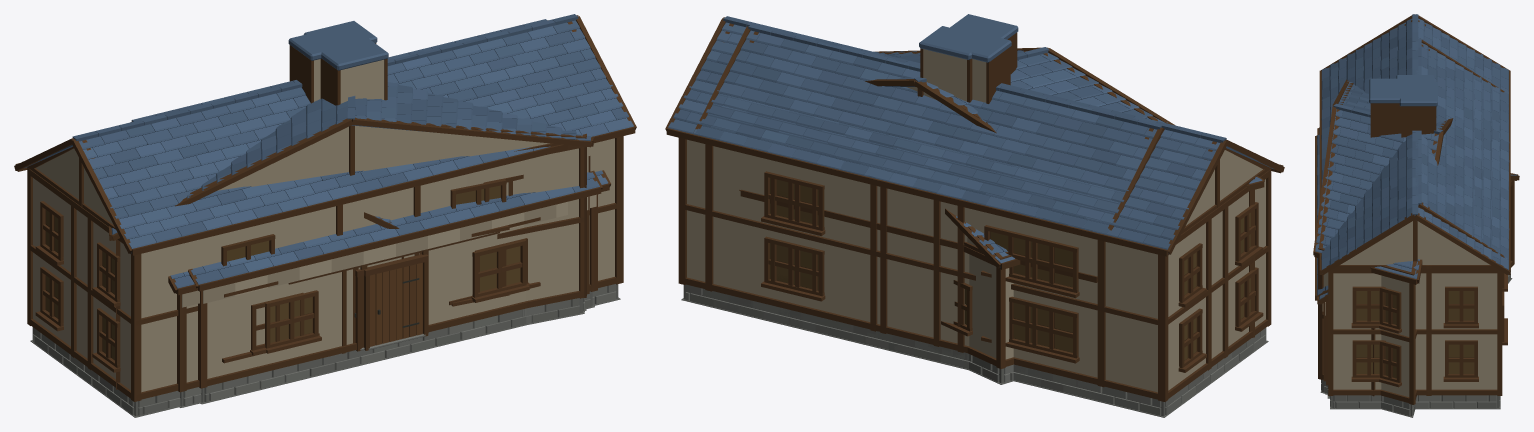
The model's file is houses-reference-v1.glb.
3 views of the same model, side by side, from view 1: azimuth 30°, elevation 25°; view 2: azimuth 150°, elevation 25°; view 3: azimuth 270°, elevation 25° (orthographic). The views are drawn at different scales.
Visible parts, largest first — view 1: GEO-house-reference-alderwake-hall, GEO-house-reference-tess-general-goods, GEO-house-reference-lantern-rest, GEO-house-reference-reed-chandlery, GEO-house-reference-mayor-vale-home; view 2: GEO-house-reference-alderwake-hall, GEO-house-reference-mayor-vale-home, GEO-house-reference-lantern-rest, GEO-house-reference-house-dockside, GEO-house-reference-house-timber-terracotta; view 3: GEO-house-reference-alderwake-hall, GEO-house-reference-lantern-rest, GEO-house-reference-mayor-vale-home, GEO-house-reference-tess-general-goods, GEO-house-reference-house-dockside, GEO-house-reference-reed-chandlery.
Boxes of the visible parts, left/top/right/bottom form: GEO-house-reference-alderwake-hall: left=14, top=14, right=636, bottom=417; GEO-house-reference-tess-general-goods: left=188, top=170, right=602, bottom=404; GEO-house-reference-lantern-rest: left=108, top=36, right=593, bottom=389; GEO-house-reference-reed-chandlery: left=168, top=170, right=610, bottom=407; GEO-house-reference-mayor-vale-home: left=131, top=19, right=547, bottom=122; GEO-house-reference-alderwake-hall: left=665, top=16, right=1284, bottom=417; GEO-house-reference-mayor-vale-home: left=693, top=24, right=1164, bottom=402; GEO-house-reference-lantern-rest: left=865, top=14, right=1264, bottom=337; GEO-house-reference-house-dockside: left=941, top=208, right=1020, bottom=384; GEO-house-reference-house-timber-terracotta: left=739, top=189, right=1097, bottom=282; GEO-house-reference-alderwake-hall: left=1319, top=14, right=1510, bottom=409; GEO-house-reference-lantern-rest: left=1313, top=78, right=1453, bottom=417; GEO-house-reference-mayor-vale-home: left=1399, top=38, right=1509, bottom=339; GEO-house-reference-tess-general-goods: left=1315, top=134, right=1328, bottom=394; GEO-house-reference-house-dockside: left=1508, top=173, right=1519, bottom=283; GEO-house-reference-reed-chandlery: left=1317, top=127, right=1329, bottom=398.
Bounding box in the file's own units: 6.75 × 3.41 × 2.8.
